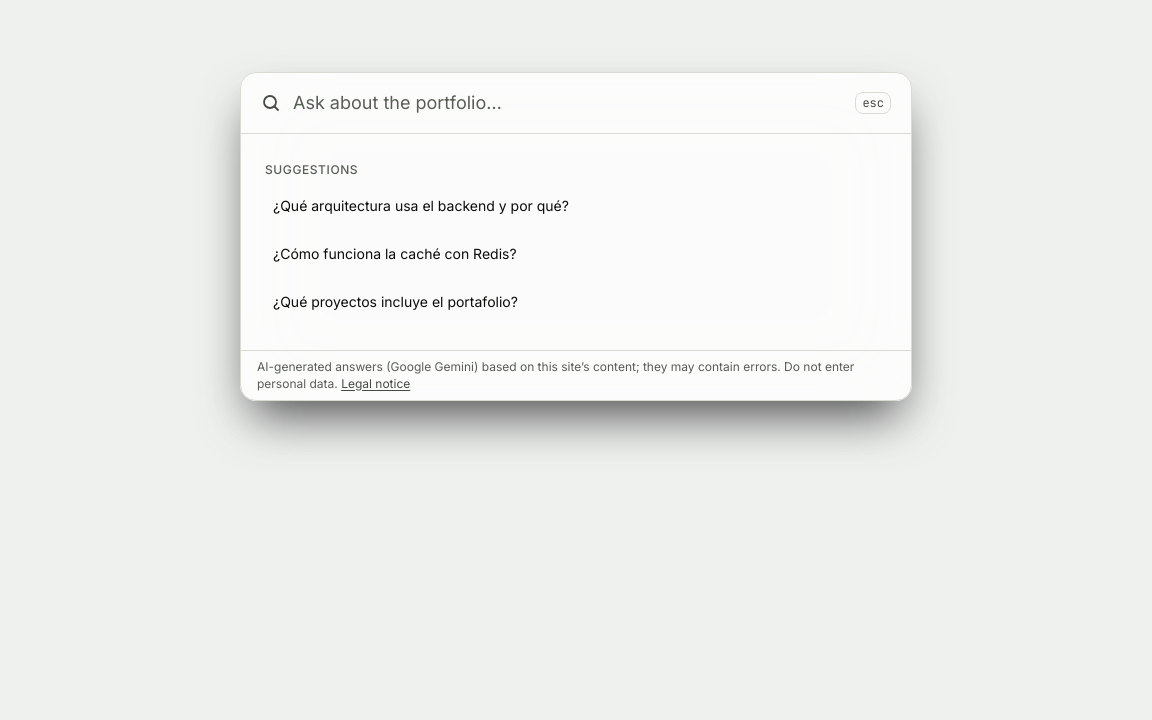
Test: renders the answer as Markdown and expands a citation pill
Type "¿Qué arquitectura usa el backend?" into the field with id "rag-prompt" at (568, 103), box [293,89,843,117]
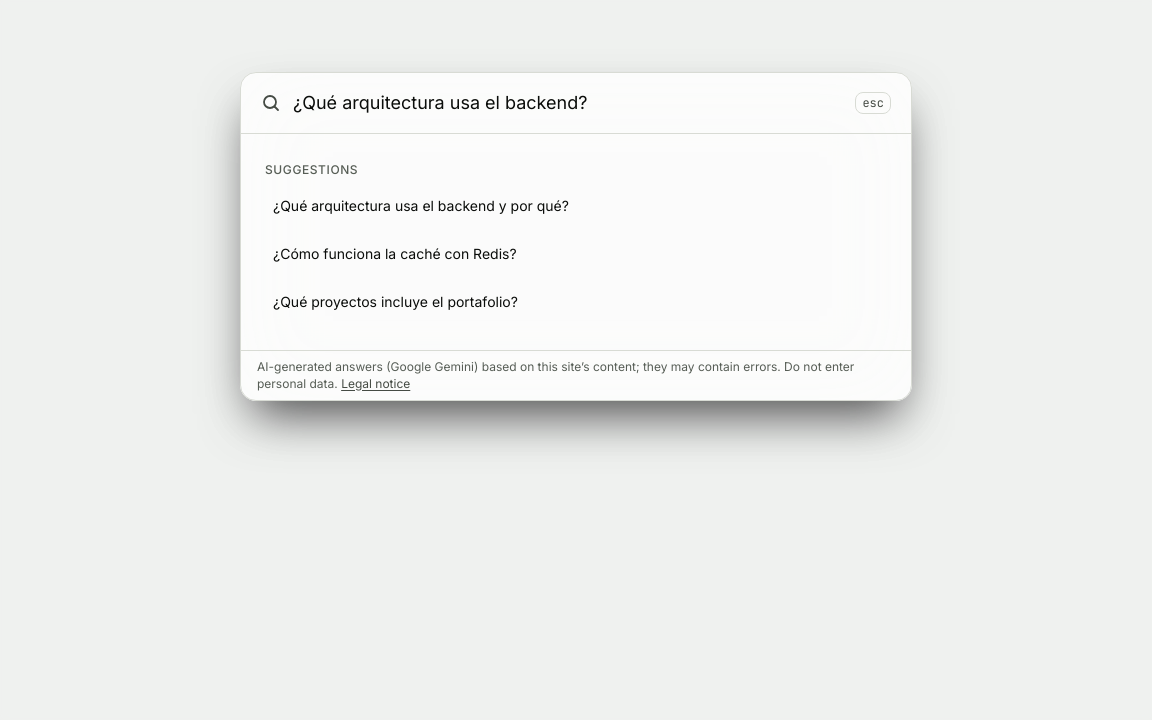
Submit the form, box [241,73,911,134]
Wait 300 ms
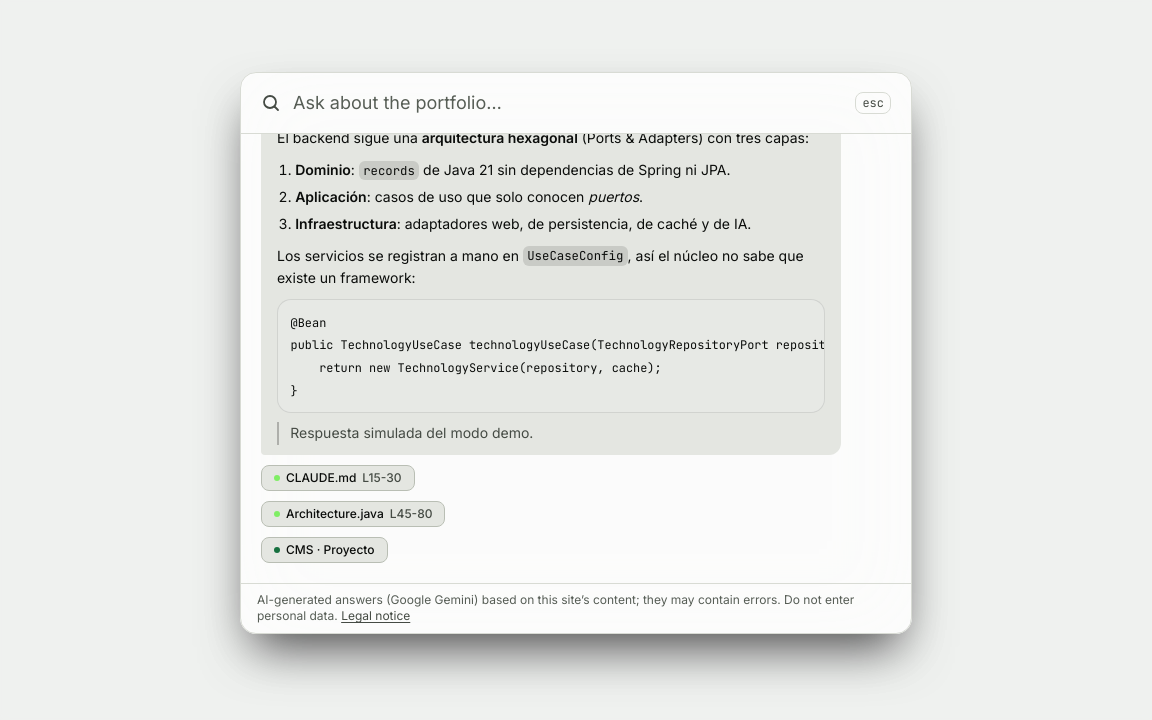
Check: the text "arquitectura hexagonal" is shown, box [422,134,578,146]
Check: the text "@Bean" is shown, box [291,315,825,399]
Check: the button "CLAUDE.md L15-30" is shown
Click the button "CLAUDE.md L15-30" at (338, 478), box [261,465,414,491]
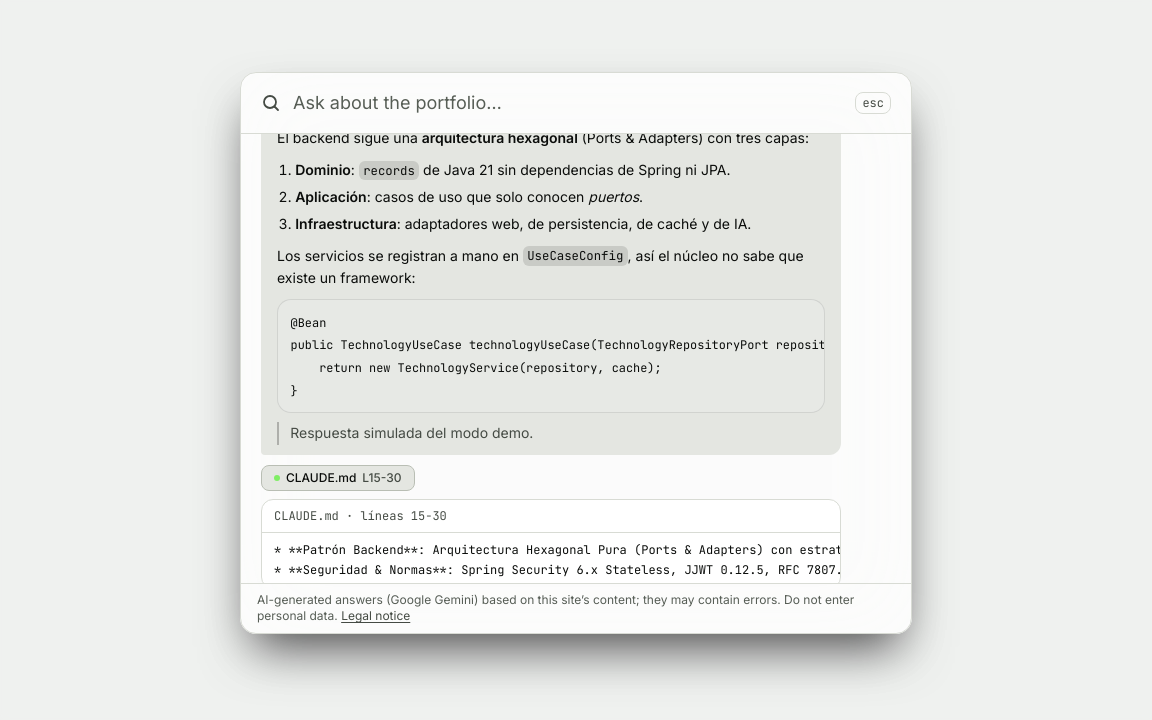
Check: the text "Arquitectura Hexagonal Pura" is shown, box [274,542,841,578]
